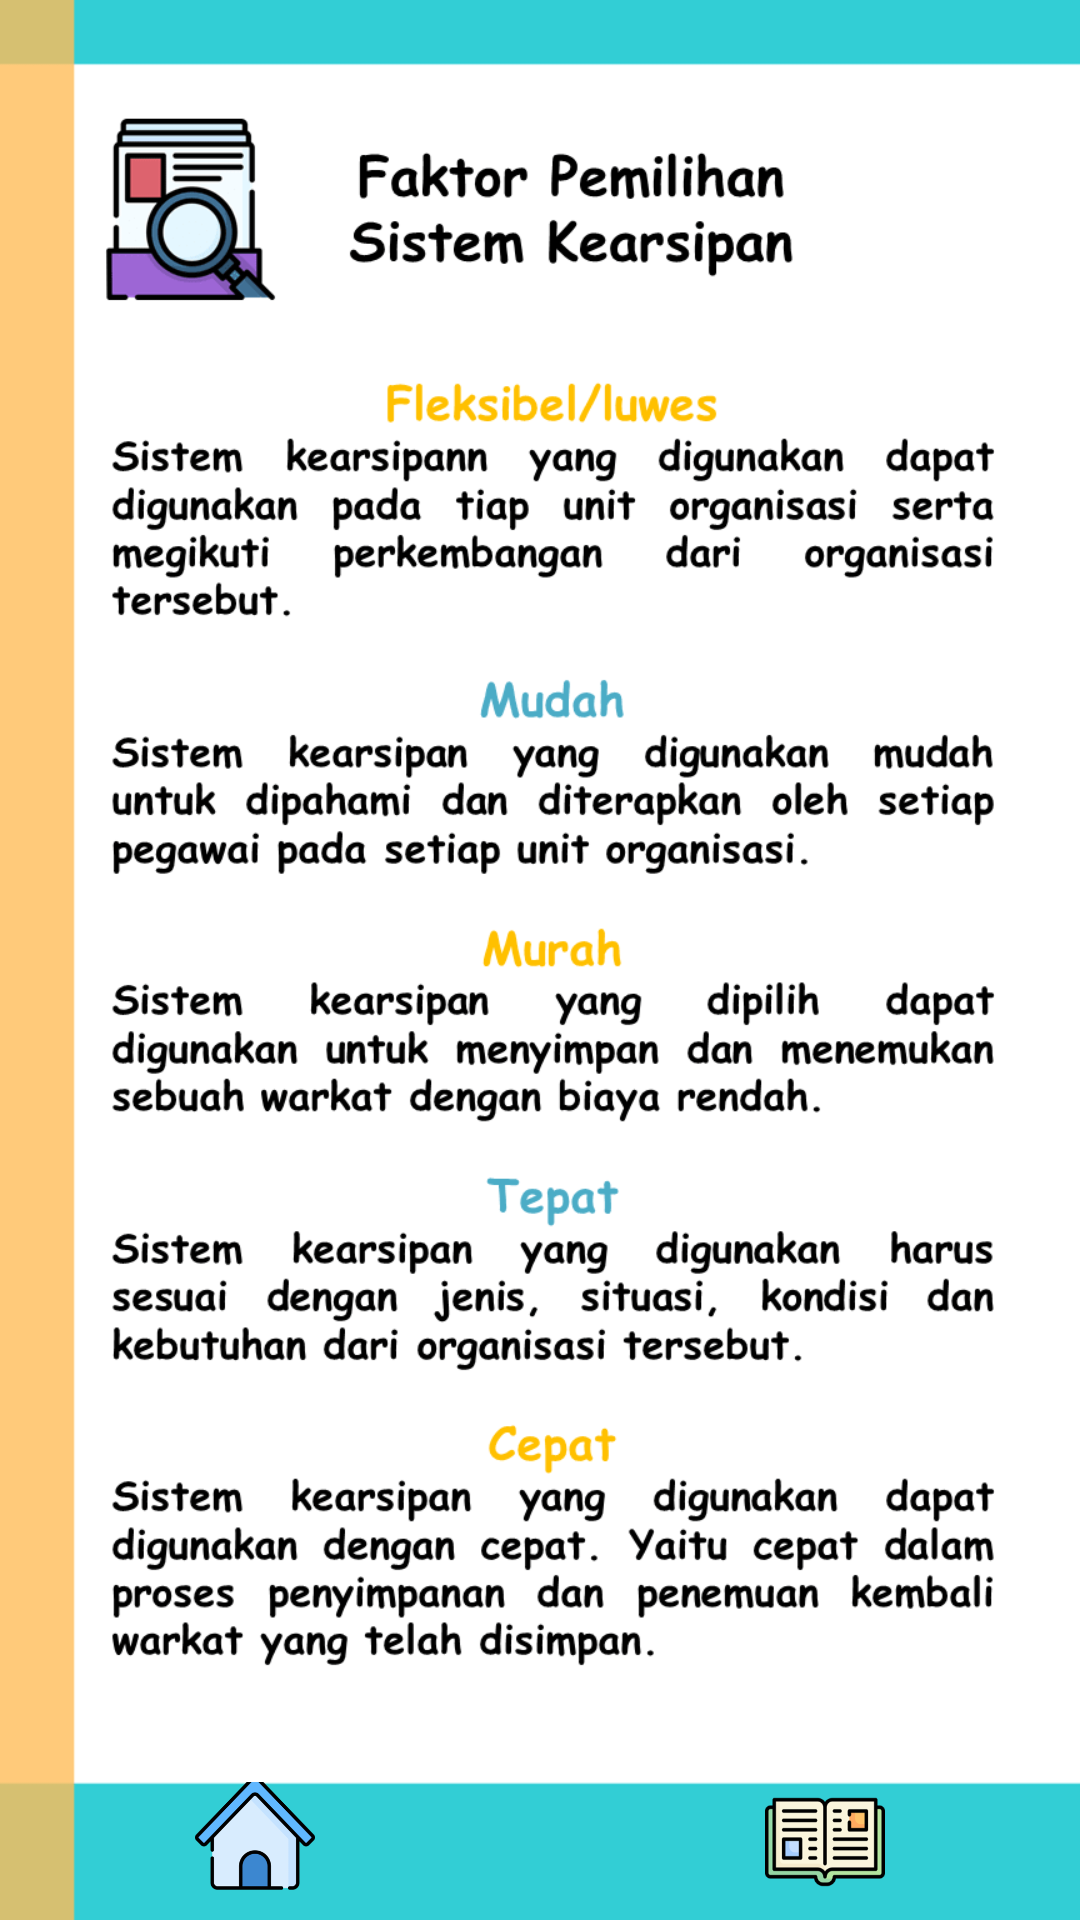

Named icons in this screenshot (1080w x 1920h) and their centers, (x=x, y=y):
home: (x=255, y=1836)
materi: (x=825, y=1842)
